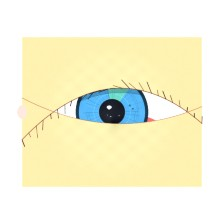hemorrhage_spot: (78, 89, 174, 167)
